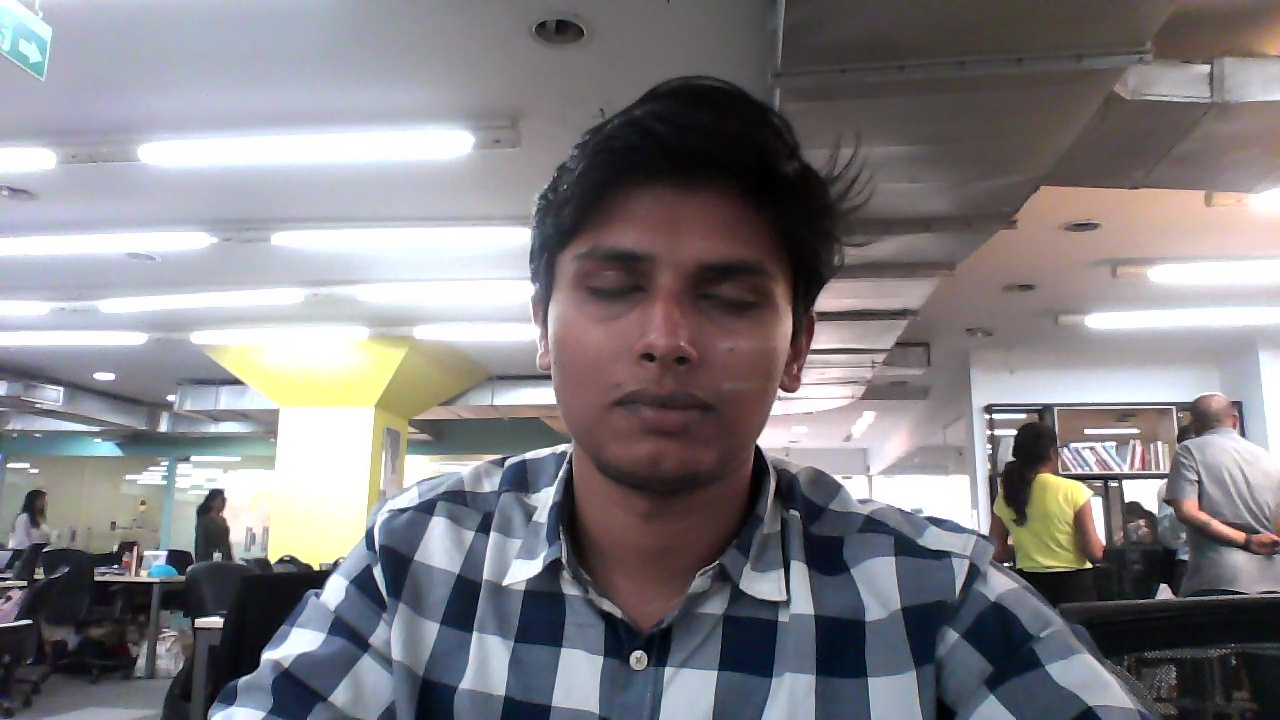closed: (523, 76, 825, 516)
